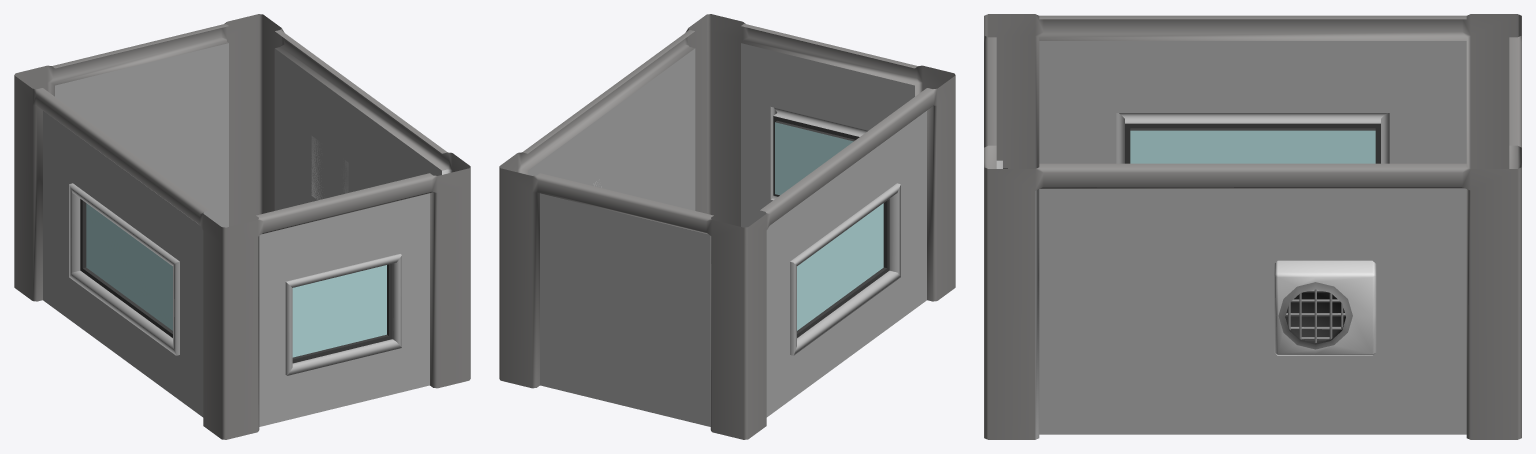
File: MidFloor2.fbx
3 renders of one model, left to right at view 1: azimuth 30°, elevation 25°; view 2: azimuth 150°, elevation 25°; view 3: azimuth 270°, elevation 25°, orthographic. The views are drawn at different scales.
Visible parts, largest first — view 1: MidFloor2, ACUnit1; view 2: MidFloor2; view 3: MidFloor2, ACUnit1.
Boxes of the visible parts, <box> form: MidFloor2: <box>14,14,470,439</box>; ACUnit1: <box>311,136,348,200</box>; MidFloor2: <box>499,14,955,439</box>; MidFloor2: <box>984,14,1521,439</box>; ACUnit1: <box>1274,260,1376,355</box>.
Size of the model in its own units: 460 by 350 by 629.
